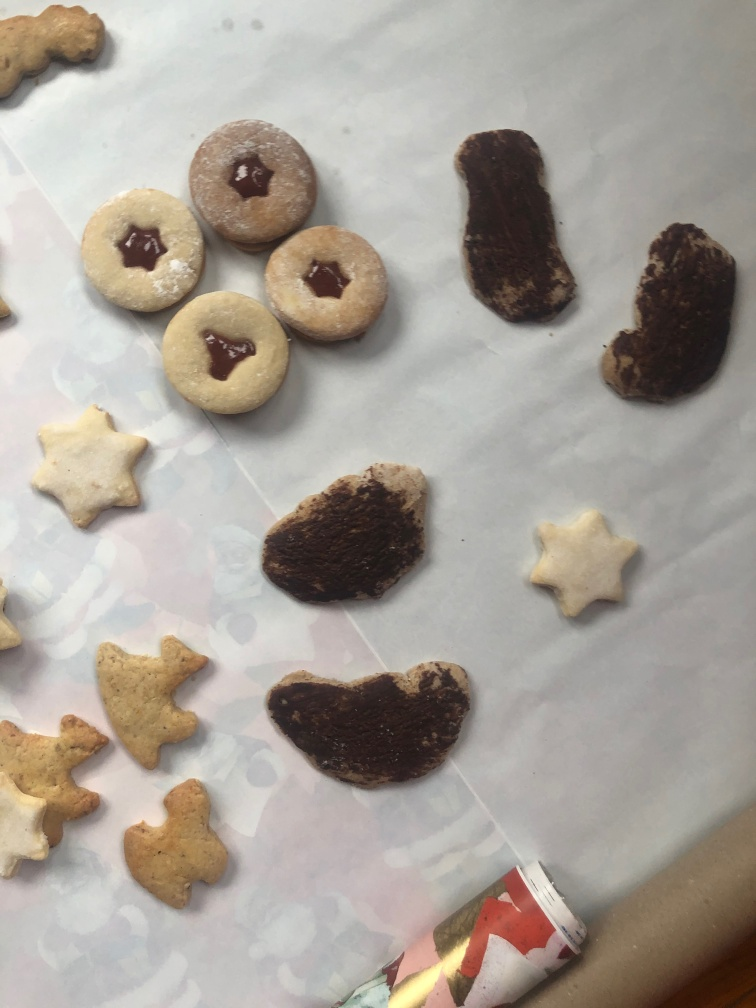christmas shortbread with jam: (77, 183, 207, 321), (157, 285, 294, 414), (186, 119, 316, 252), (266, 222, 391, 350)
lamb: (92, 630, 216, 772), (121, 779, 243, 916), (1, 708, 119, 838)
star: (27, 404, 156, 532), (527, 506, 646, 621)
weird #1: (262, 653, 482, 789), (255, 457, 436, 613), (598, 216, 742, 406), (452, 124, 580, 329)
